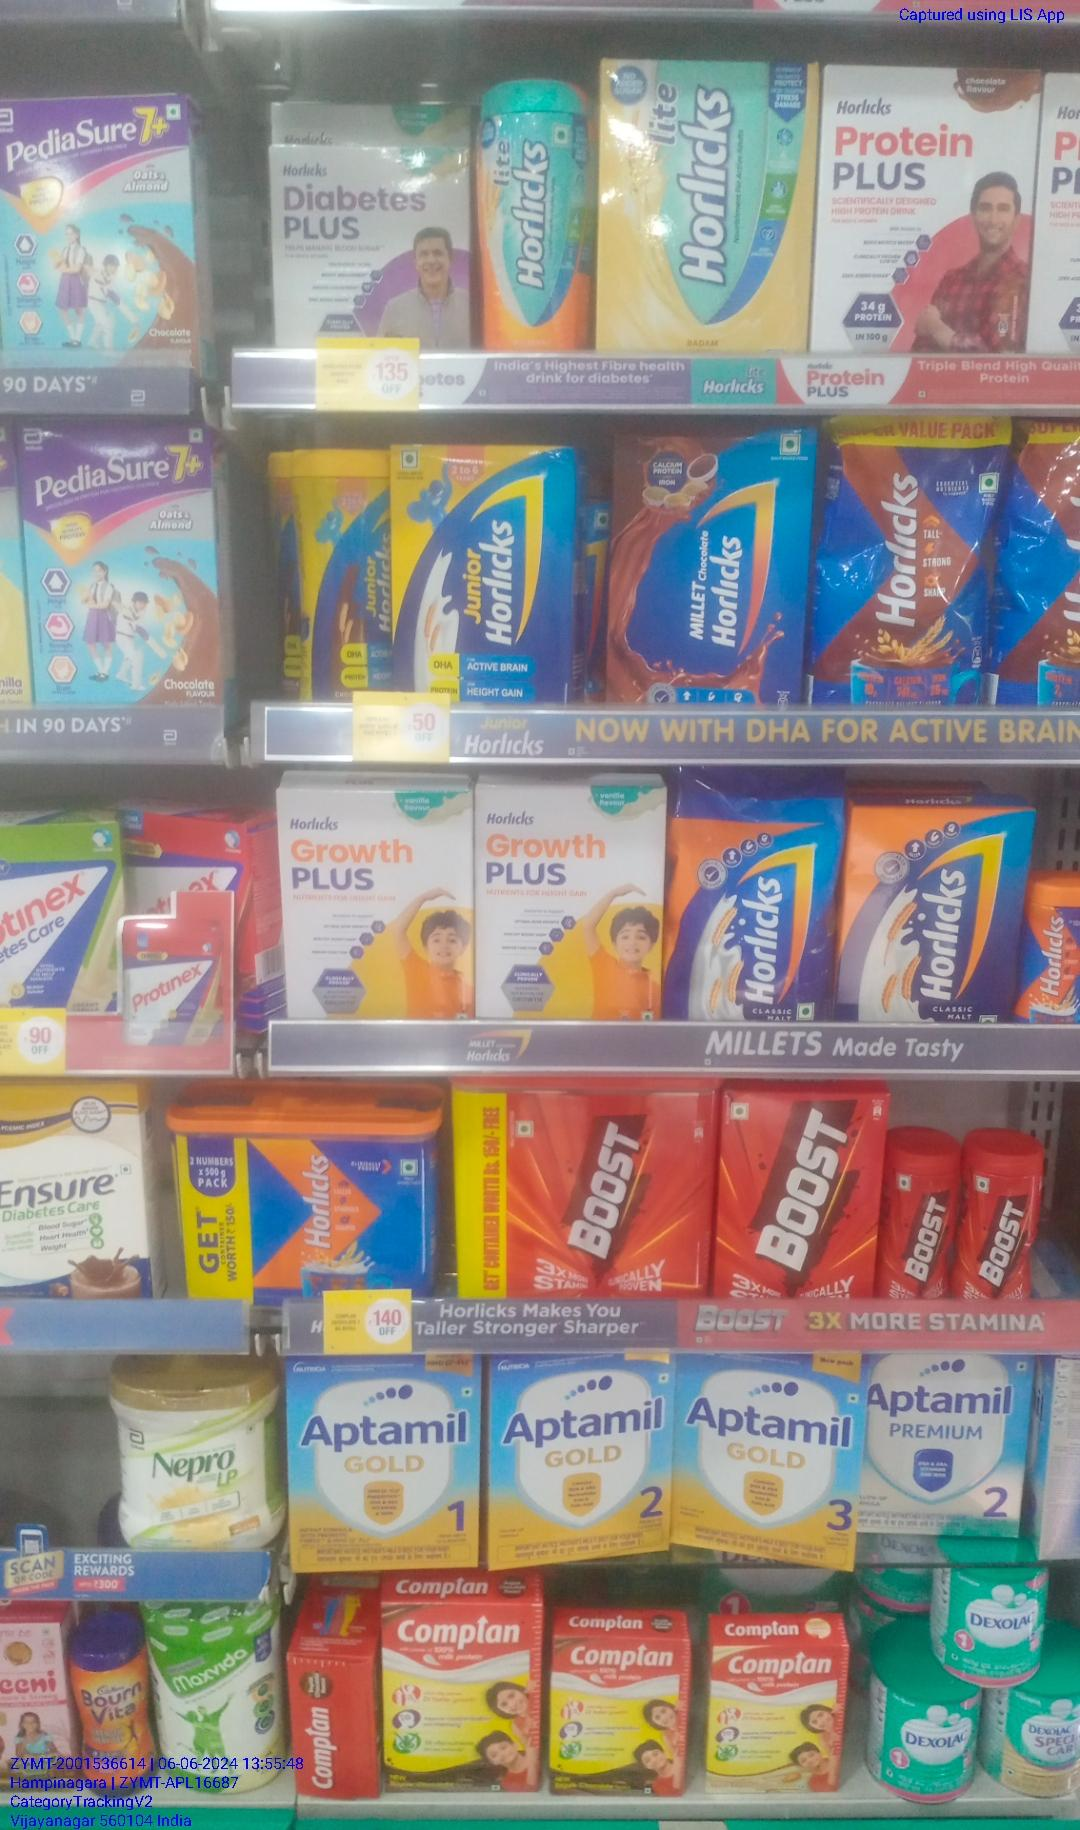BOURN_VITA_200_G_JAR: (73, 1642, 150, 1797)
COMPLAN_CHOCOLATE_200_GMS_PACK: (553, 1639, 681, 1802)
COMPLAN_KESAR_BADAM_200_GMS_PACK: (711, 1642, 843, 1794)
HORLICKS_LITE_REGULAR_MALT_500_GM_JAR: (474, 78, 586, 352)
HORLICK_CLASSIC_MALT_200_G_JAR: (1023, 876, 1080, 1028)
HORLICK_MALT_1_KG_CONTAINER: (167, 1112, 433, 1301)
PEDIASURE_7_PLUS_CHOCOLATE_400_G_PACK: (19, 416, 216, 711), (0, 94, 193, 368)
